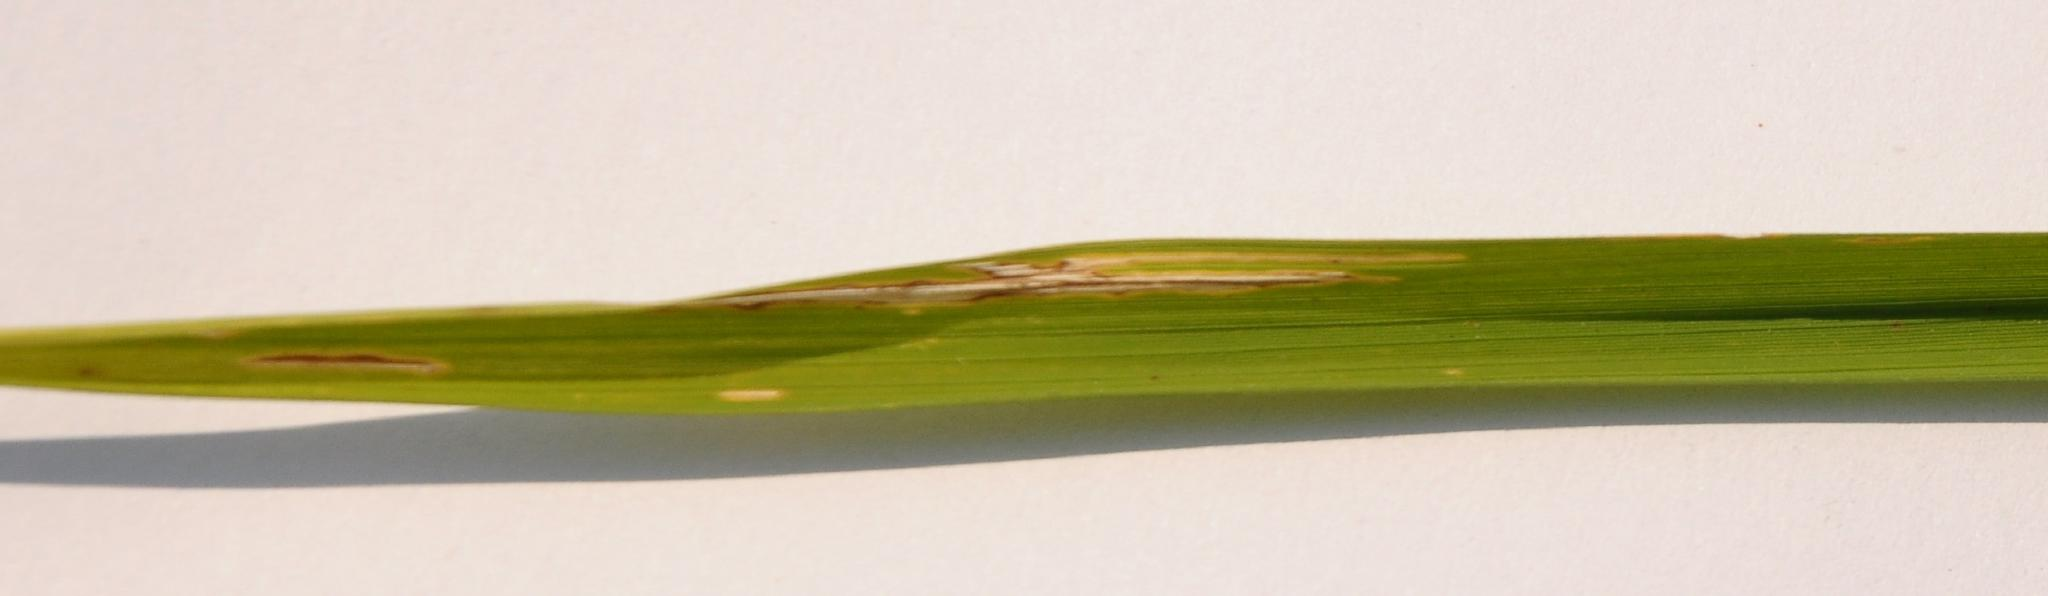2 BacterialBlight: (57, 274, 833, 417), (714, 233, 1546, 314)
